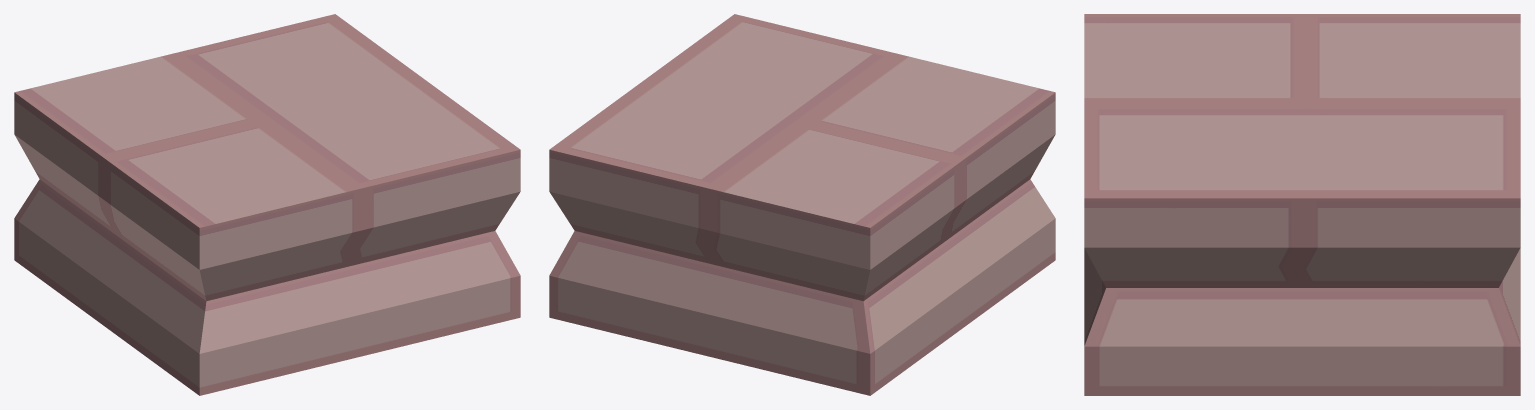
File: pillarbase.fbx
3 renders of one model, left to right at view 1: azimuth 30°, elevation 25°; view 2: azimuth 150°, elevation 25°; view 3: azimuth 270°, elevation 25°, orthographic. The views are drawn at different scales.
Visible parts, largest first — view 1: PillarBottomTop; view 2: PillarBottomTop; view 3: PillarBottomTop.
Part boxes in pixels (<box>): PillarBottomTop: <box>14,14,520,395</box>; PillarBottomTop: <box>549,14,1055,395</box>; PillarBottomTop: <box>1084,14,1520,395</box>.
Bounding box in the file's own units: 200 × 100 × 200.
